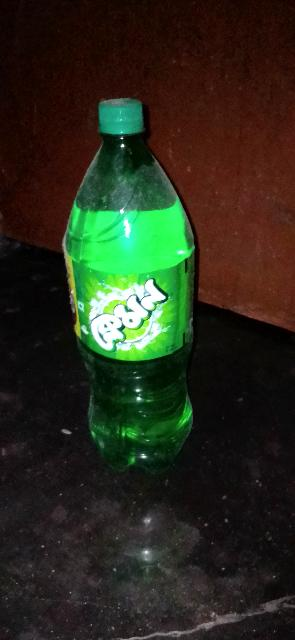bottle: (65, 102, 214, 481)
